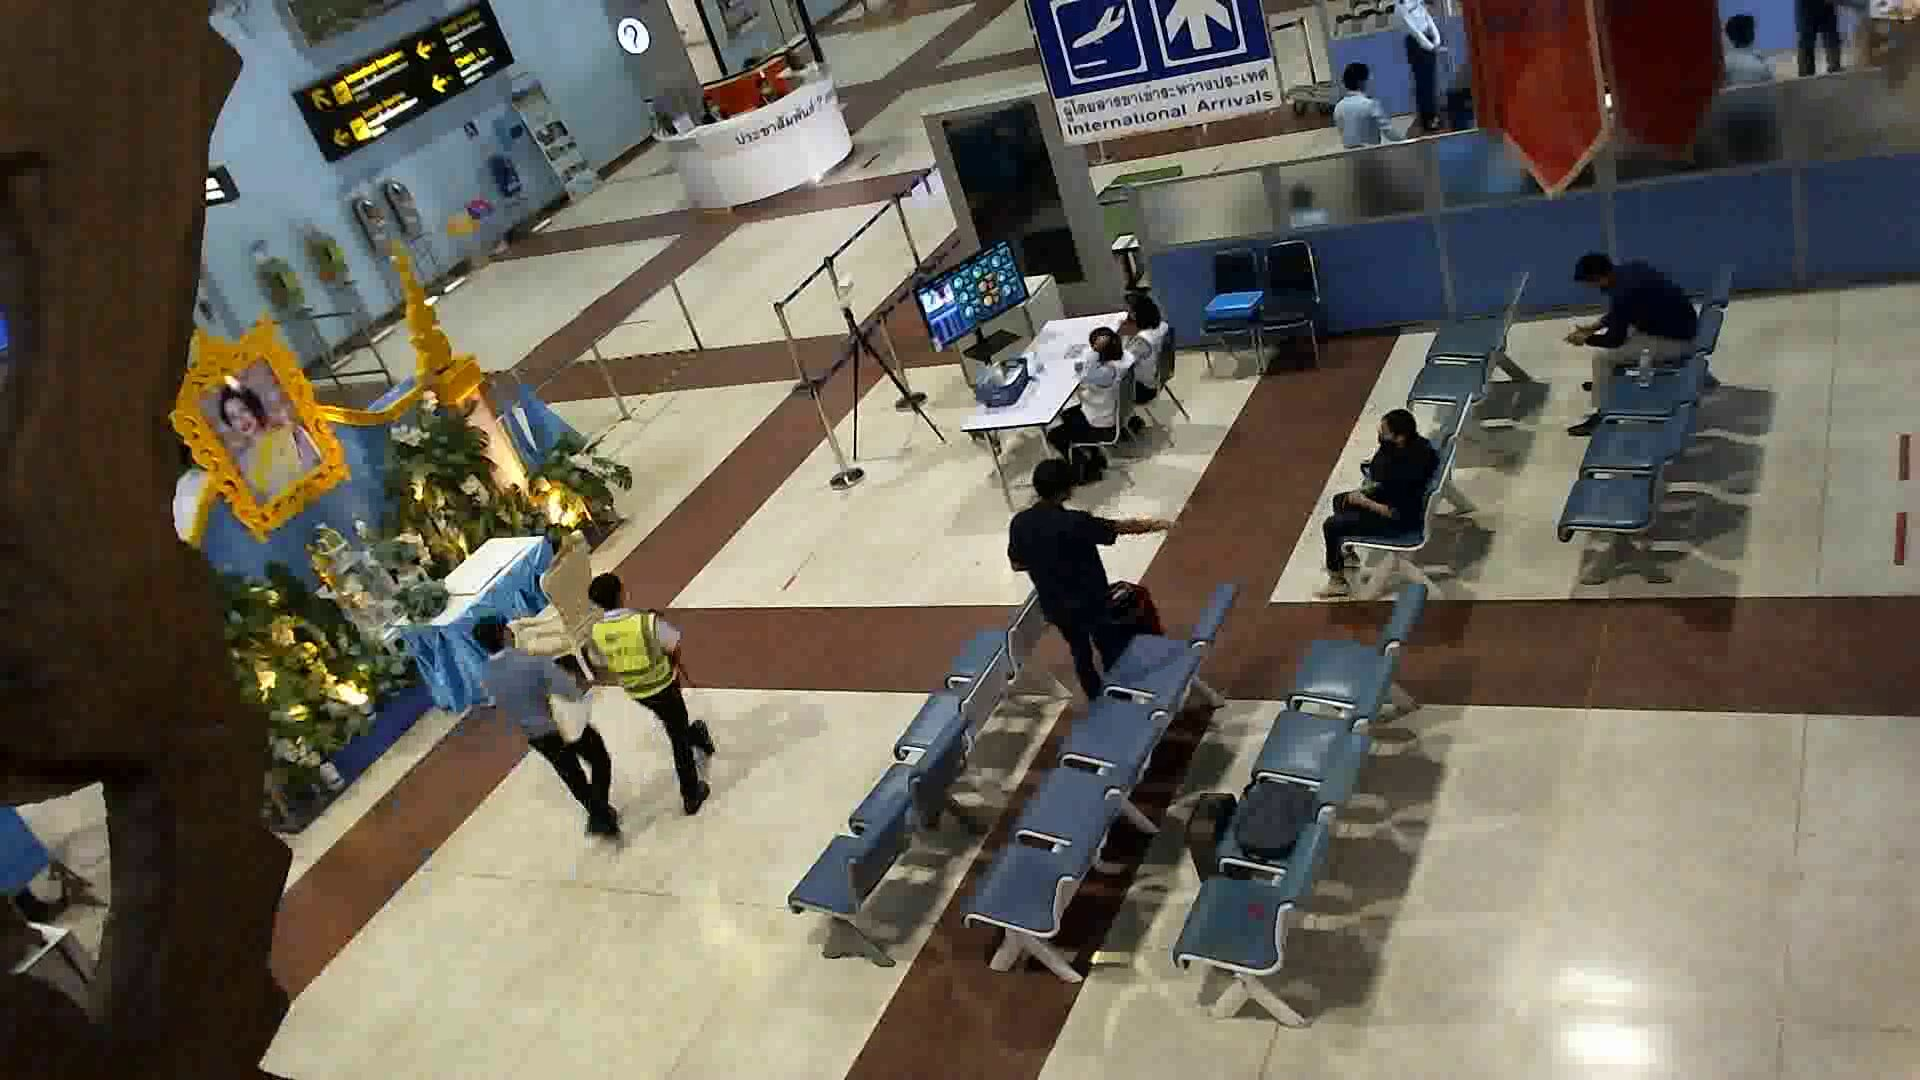backpack: (1239, 774, 1316, 863)
luggage: (1176, 784, 1241, 897), (1101, 576, 1158, 657)
people: (470, 613, 626, 849), (581, 570, 724, 826), (1012, 445, 1137, 713), (1568, 238, 1693, 449), (1314, 409, 1428, 599), (1053, 332, 1135, 468), (1108, 288, 1189, 411)
